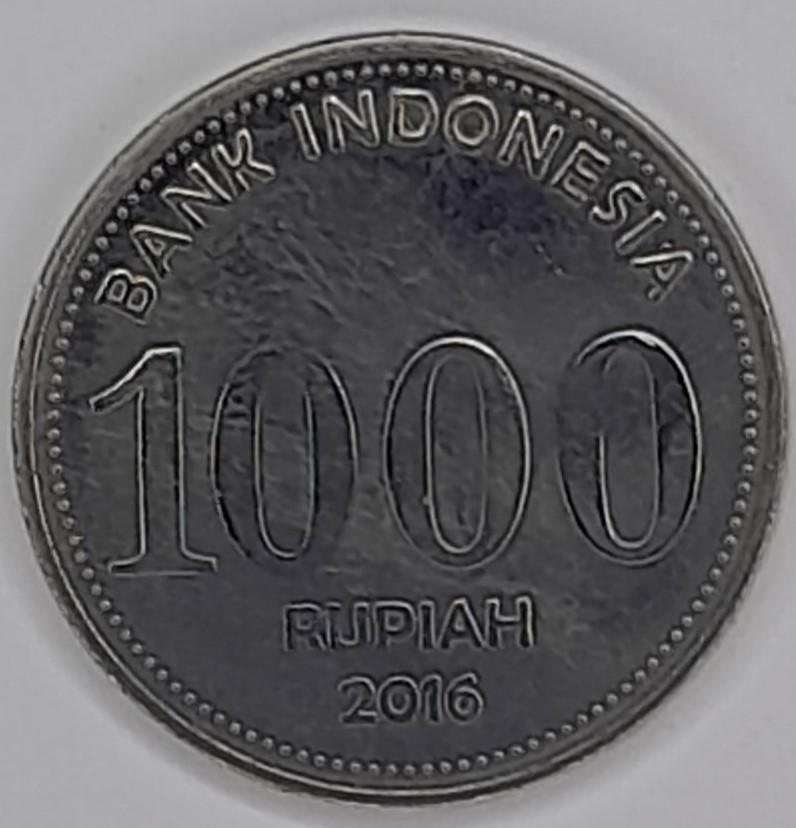coin_1000_e2016: (14, 16, 785, 828)
